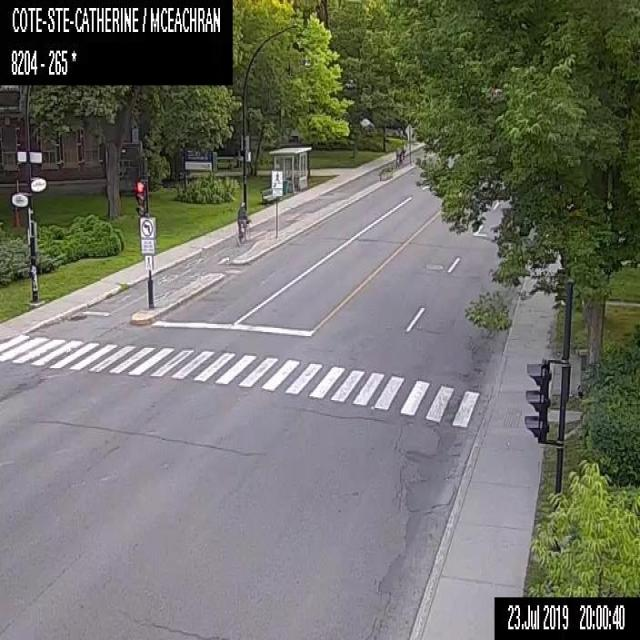cyclist: (236, 198, 248, 242), (394, 144, 402, 166), (399, 140, 406, 160)
